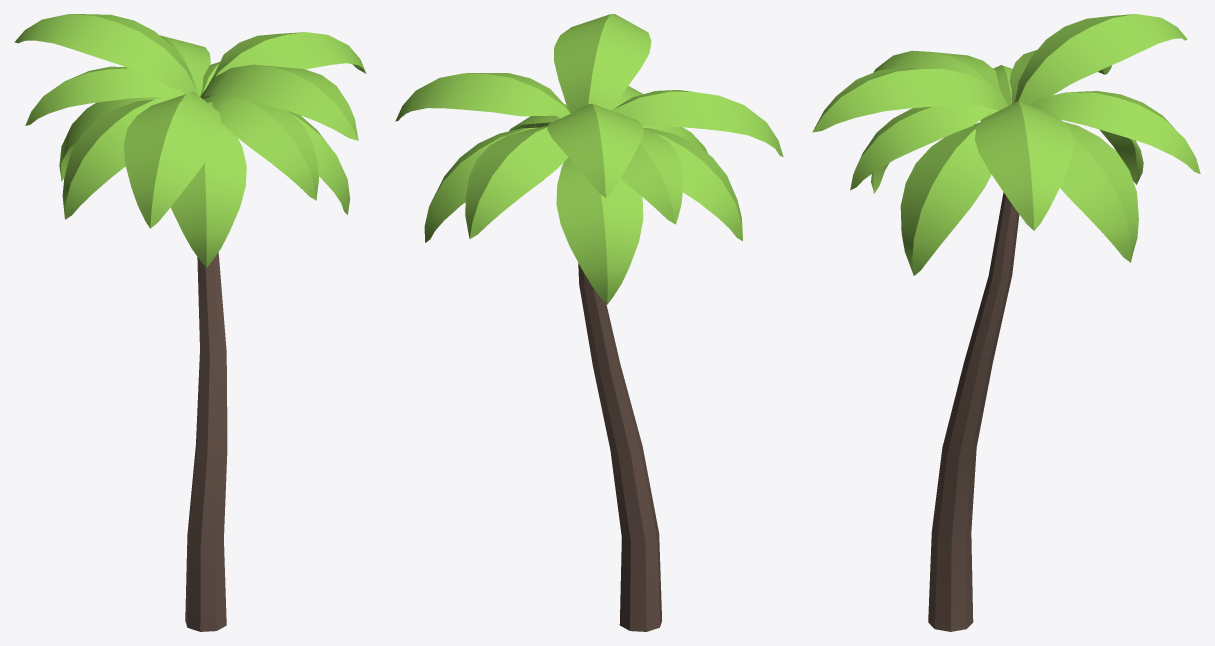
The model's file is TREE.fbx.
3 views of the same model, side by side, from view 1: azimuth 30°, elevation 25°; view 2: azimuth 150°, elevation 25°; view 3: azimuth 270°, elevation 25° (orthographic). The views are drawn at different scales.
Parts seen in each view (by area): view 1: Palm-tree.011; view 2: Palm-tree.011; view 3: Palm-tree.011.
Boxes of the visible parts, x1=… form: Palm-tree.011: x1=14, y1=14, x2=366, y2=631; Palm-tree.011: x1=395, y1=14, x2=783, y2=631; Palm-tree.011: x1=812, y1=14, x2=1200, y2=631.
Bounding box in the file's own units: 303 × 505 × 303.
1 material, 1 textured.
